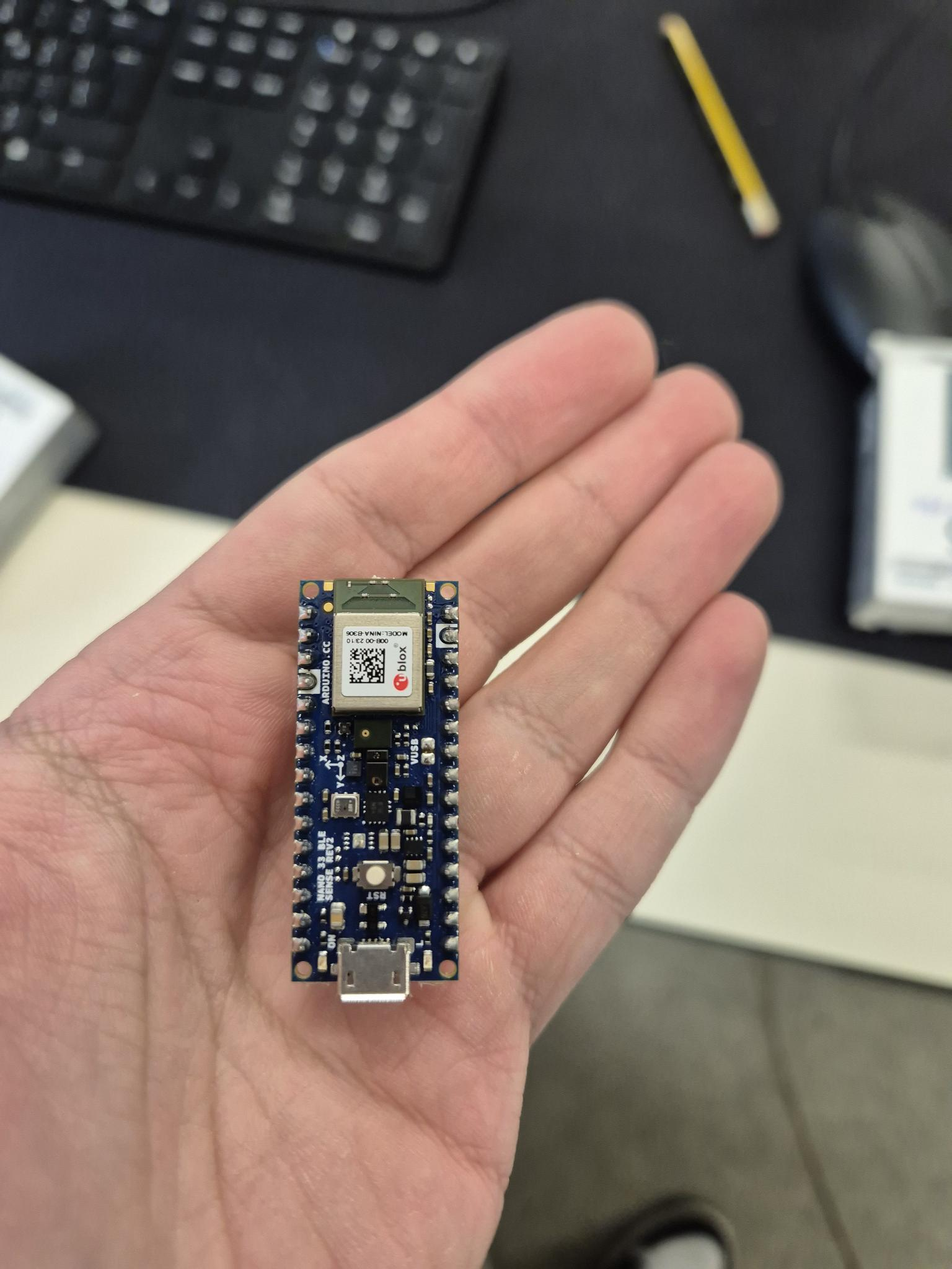arduino-nano-ble-sense: (293, 578, 458, 1001)
